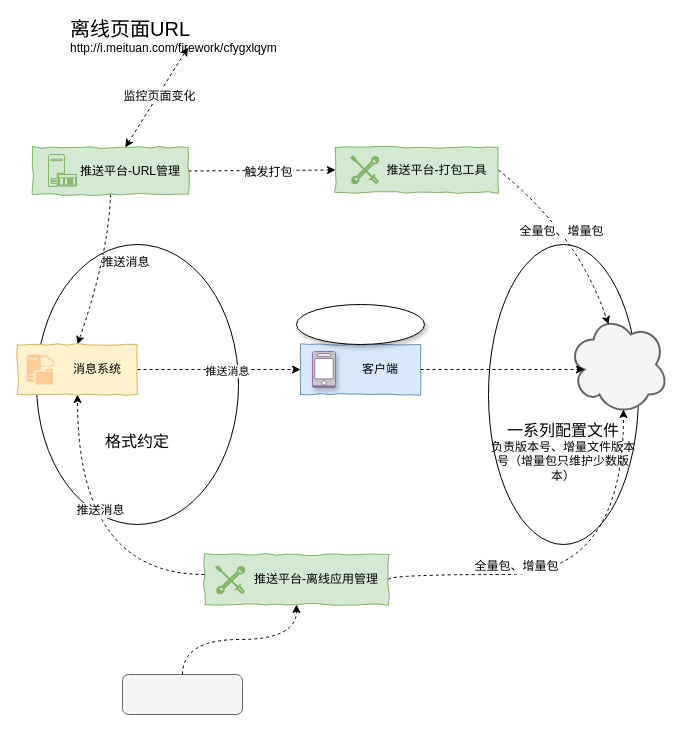
Image size: 687x732. Some labels were removed from this diagram. The shapes that lost their labels are listed below. From the top down, each one's centre as x and y in pixels, then its label:
At pixel 361 326: "app启动读取配置文件".
At pixel 618 364: "CDN".
At pixel 182 694: "离线应用项目".
